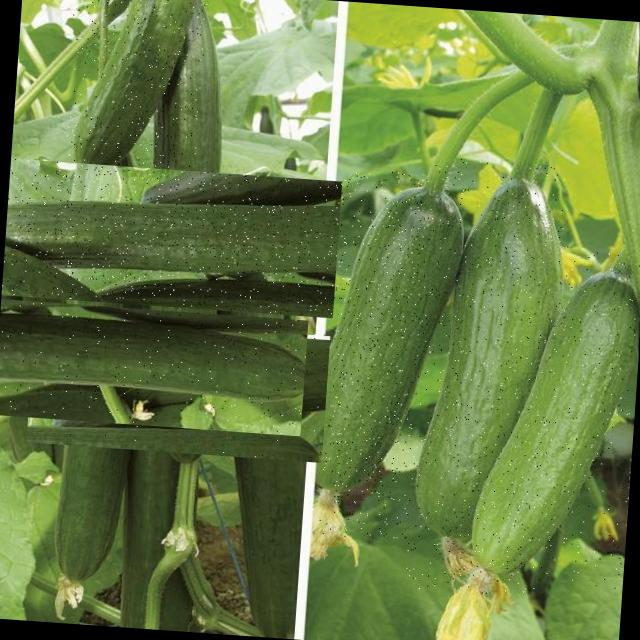Cucumber: (412, 161, 570, 549), (464, 261, 640, 584), (313, 170, 470, 512)
